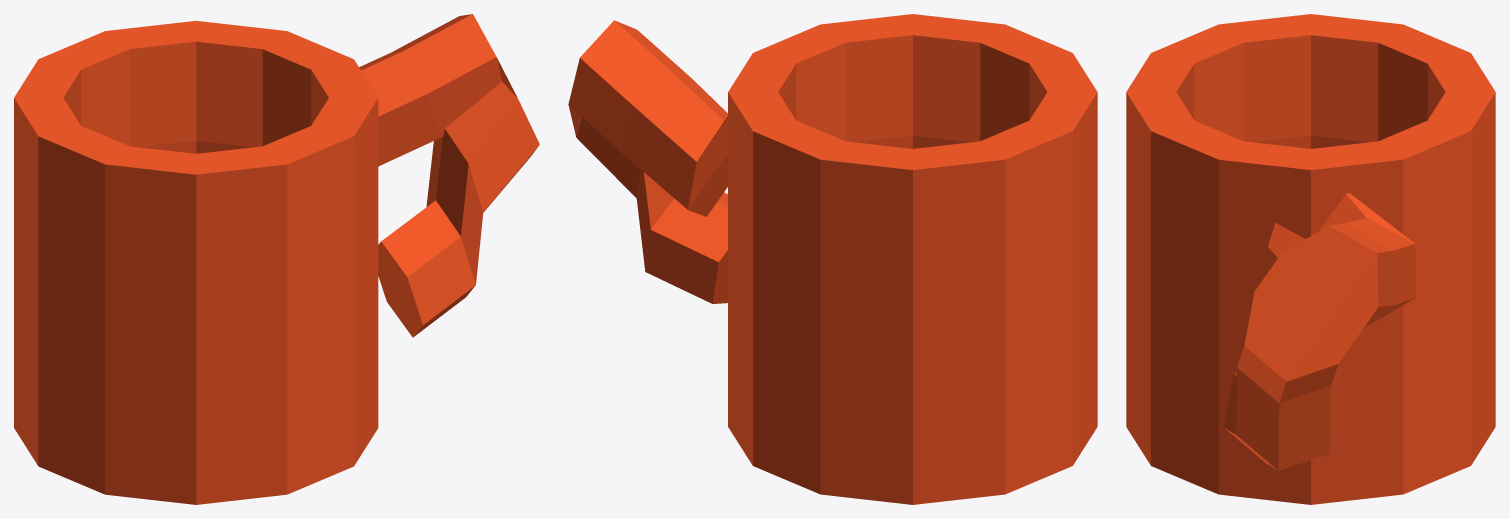
The picture shows the model from 3 angles, left to right: view 1: azimuth 30°, elevation 25°; view 2: azimuth 150°, elevation 25°; view 3: azimuth 270°, elevation 25°; orthographic projection.
Size of the model in its own units: 0.0914 by 0.0614 by 0.06.
